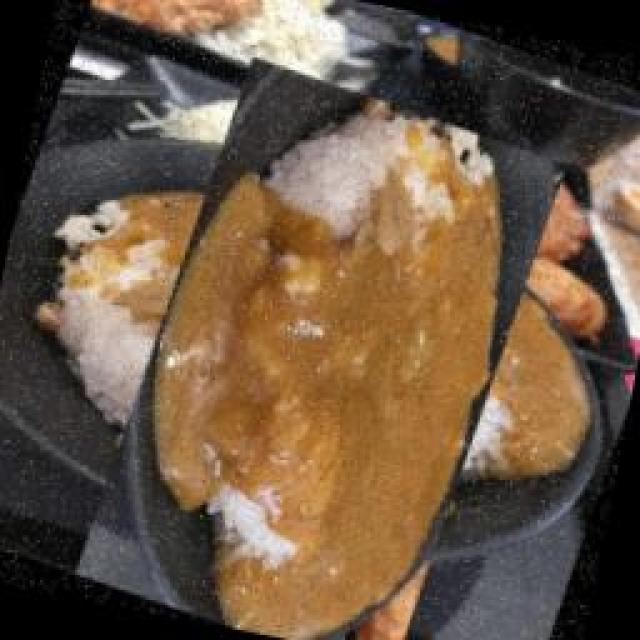Wet Waste: (25, 80, 615, 640)
